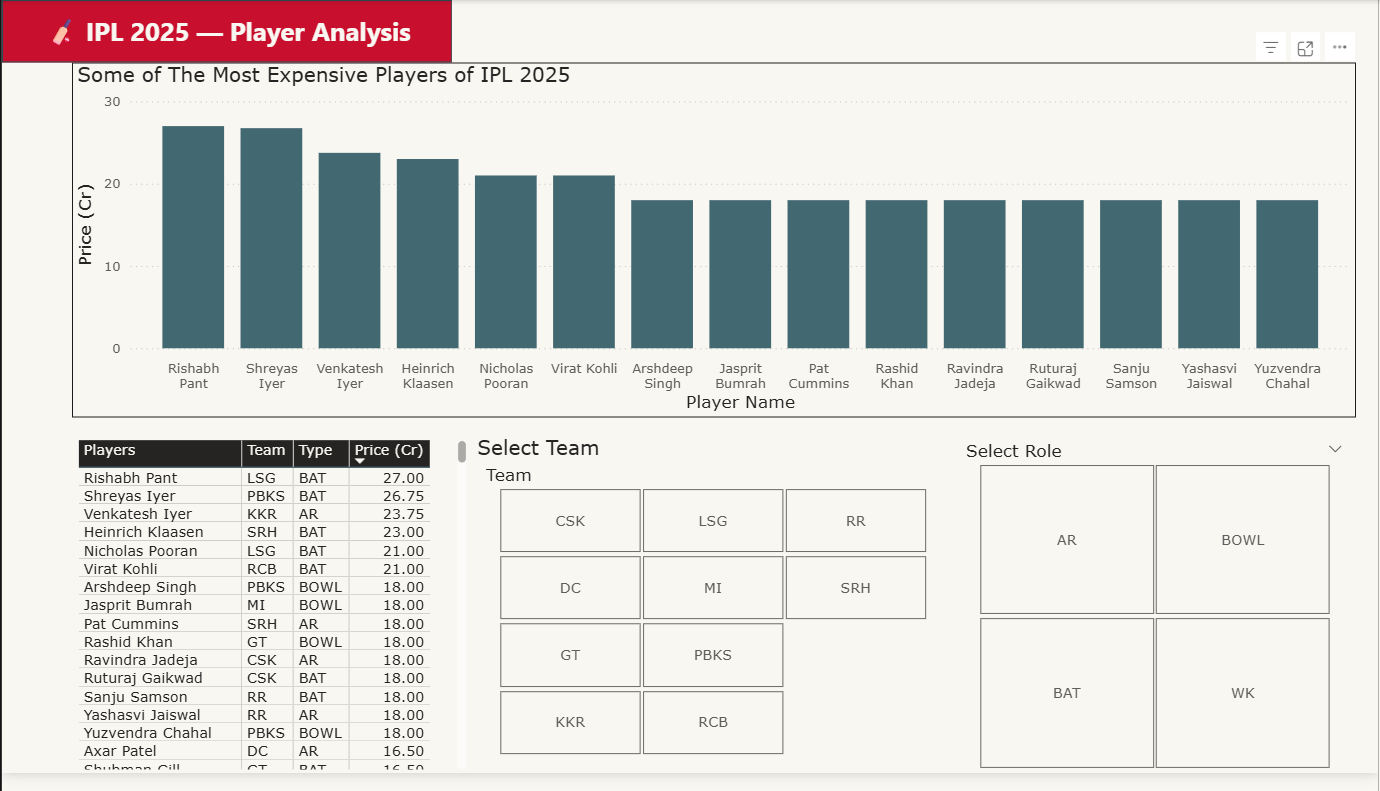

The page's visual inventory and layout, read from the dashboard file:
{"tool":"powerbi","page":{"name":"Player Analysis","canvas":[1280,720],"ordinal":1},"visuals":[{"type":"clusteredColumnChart","title":"Some of The Most Expensive Players of IPL 2025","fields":{"Category":["ipl_2025_auction_players.Players"],"Y":["Sum(ipl_2025_auction_players.Sold)"]},"box":[65.1,58.1,1194.2,330.2],"z":0},{"type":"tableEx","fields":{"Values":["ipl_2025_auction_players.Players","ipl_2025_auction_players.Team","ipl_2025_auction_players.Type","ipl_2025_auction_players.Price (Cr)"]},"box":[65.1,404.7,372.1,316.3],"z":1000},{"type":"slicer","title":"Select Role","fields":{"Values":["ipl_2025_auction_players.Type"]},"box":[883.7,404.7,375.6,316.3],"z":2000},{"type":"slicer","title":"Select Team","fields":{"Values":["ipl_2025_auction_players.Team"]},"box":[437.2,404.7,446.5,303.5],"z":3000},{"type":"shape","box":[0,0,418.6,58.1],"z":3001}]}

Visuals, with their boxes on the page's 1280x720 design canvas (x1, y1, x2, y2). These are canvas units, not pixel positions in the 1380x791 screenshot, which may show the page scaled, cropped or inside an application window:
"Some of The Most Expensive Players of IPL 2025" clusteredColumnChart: crop(65, 58, 1259, 388)
tableEx - ipl_2025_auction_players.Players x ipl_2025_auction_players.Team: crop(65, 405, 437, 721)
"Select Role" slicer: crop(884, 405, 1259, 721)
"Select Team" slicer: crop(437, 405, 884, 708)
shape: crop(0, 0, 419, 58)
